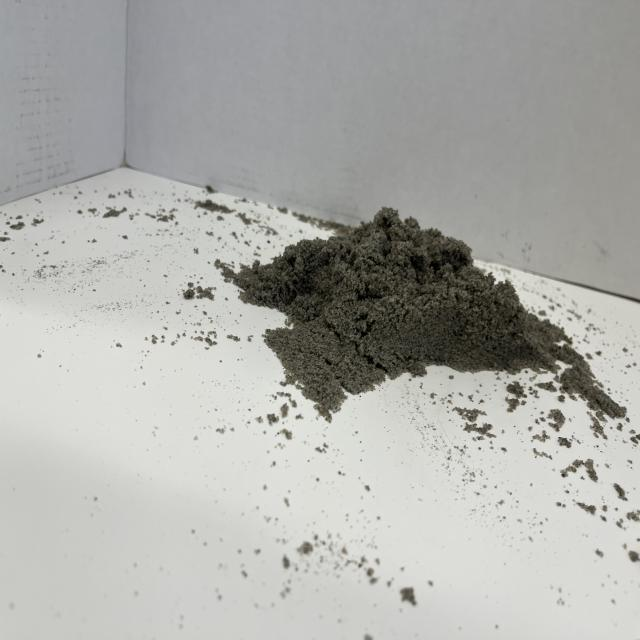sand: (222, 190, 612, 426)
